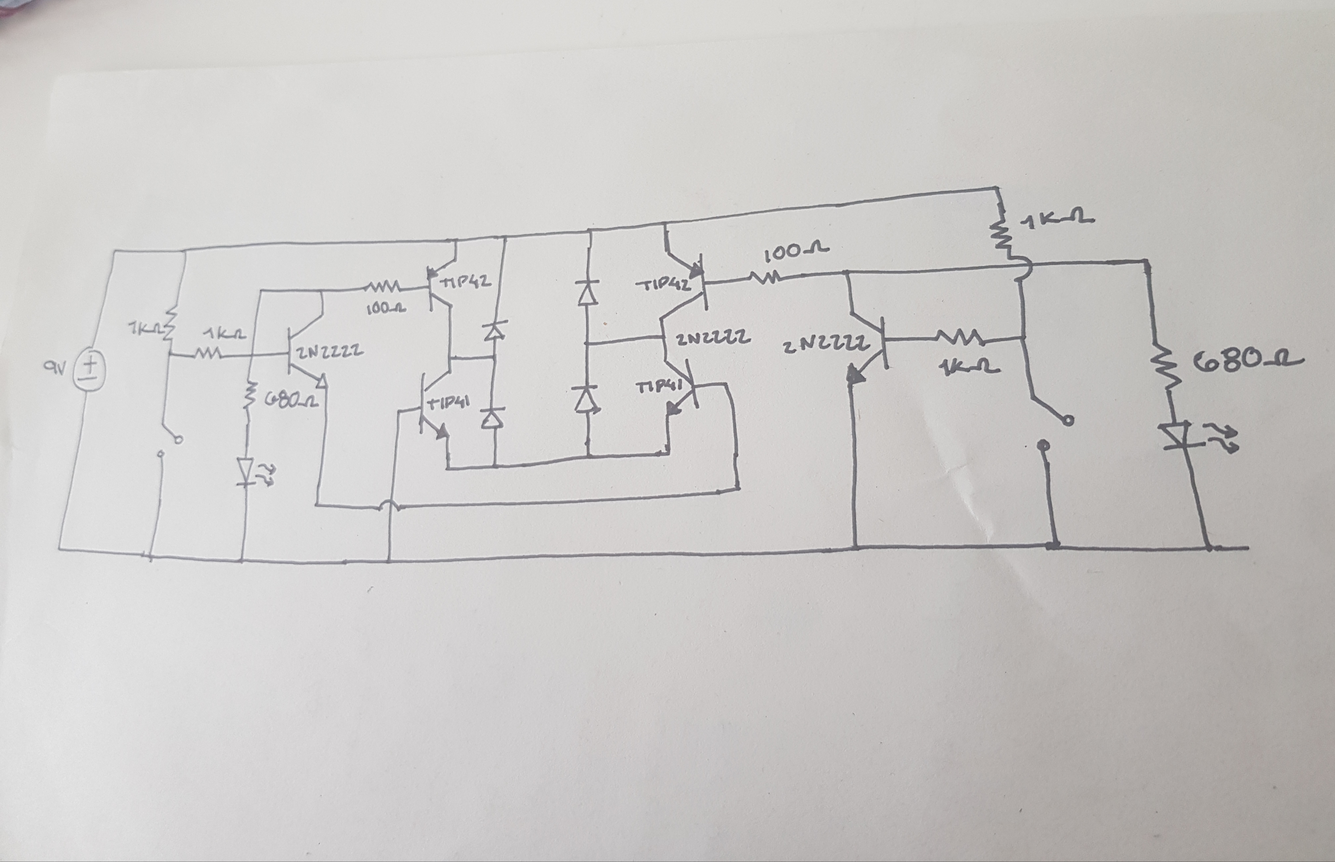crossover: (1005, 254, 1036, 285), (377, 497, 402, 517)
diode: (569, 380, 606, 416), (571, 277, 604, 314), (480, 315, 511, 345), (477, 404, 507, 434)
diode.light_emitting: (1152, 416, 1248, 459), (230, 453, 280, 493)
junction: (1195, 538, 1219, 558), (1046, 534, 1063, 555), (1138, 253, 1155, 271), (848, 539, 863, 557), (726, 481, 745, 495), (1015, 330, 1029, 347), (720, 377, 734, 394), (581, 449, 595, 466), (584, 224, 599, 239), (661, 446, 677, 460), (497, 232, 513, 245), (990, 181, 1004, 195), (659, 217, 672, 232), (144, 549, 156, 564), (581, 337, 593, 351), (54, 542, 65, 557), (442, 463, 454, 476), (393, 406, 406, 418), (317, 285, 329, 297), (488, 351, 501, 362), (237, 554, 247, 568), (838, 267, 853, 276), (656, 332, 668, 343), (256, 286, 268, 297), (109, 246, 121, 257), (247, 350, 258, 361), (451, 236, 463, 246), (445, 353, 455, 364), (384, 556, 394, 567), (179, 246, 190, 256), (313, 499, 322, 511), (490, 460, 500, 470), (166, 349, 175, 359)
resistor: (1149, 336, 1185, 396), (929, 321, 990, 350), (986, 213, 1016, 253), (162, 300, 182, 345), (743, 268, 787, 288), (360, 277, 405, 295), (190, 345, 227, 364), (241, 372, 258, 413)
switch: (1023, 391, 1086, 462), (155, 412, 185, 465)
text: (1190, 341, 1307, 376), (781, 332, 873, 358), (1021, 204, 1096, 233), (763, 237, 832, 264), (675, 329, 752, 351), (936, 356, 1003, 377), (294, 344, 366, 361), (635, 275, 694, 295), (632, 377, 686, 398), (439, 272, 492, 292), (263, 390, 318, 409), (426, 395, 471, 415), (125, 318, 167, 338), (362, 301, 407, 317), (202, 327, 246, 343), (41, 357, 69, 378)
transistor.bjt: (839, 302, 895, 391), (284, 310, 337, 394), (654, 250, 713, 320), (419, 373, 459, 440), (660, 359, 701, 419), (421, 259, 463, 314)
voltage.dc: (69, 344, 111, 397)
